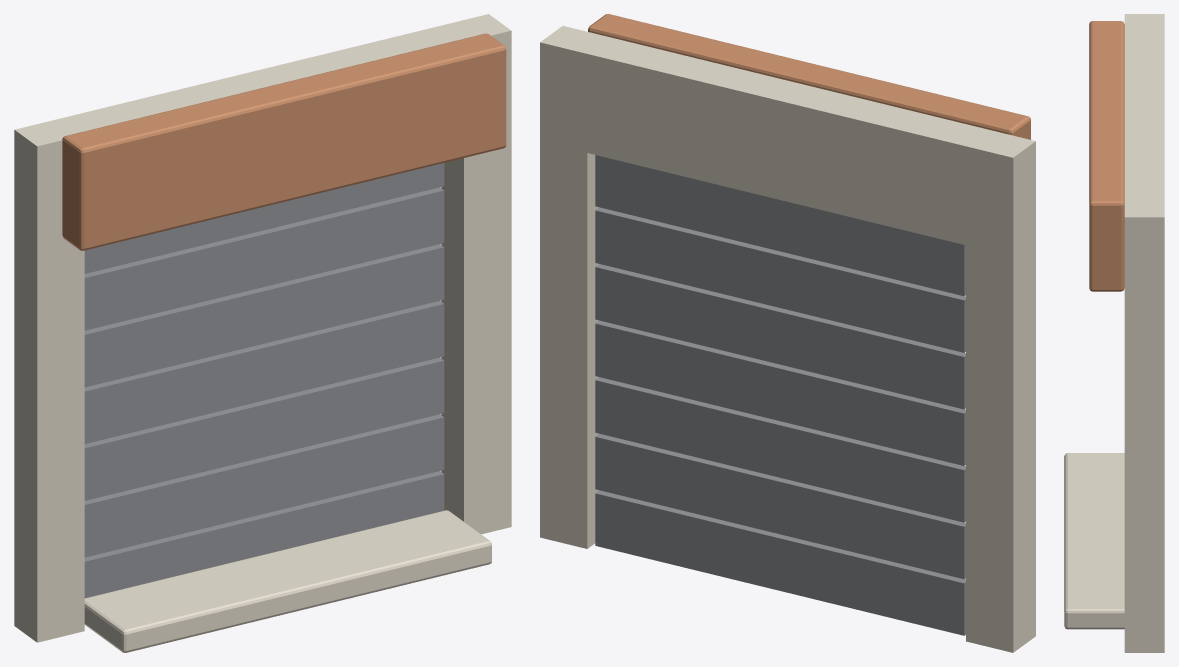
File: kit_shopfront.glb
3 views of the same model, side by side, from view 1: azimuth 30°, elevation 25°; view 2: azimuth 150°, elevation 25°; view 3: azimuth 270°, elevation 25° (orthographic). The views are drawn at different scales.
Parts seen in each view (by area): view 1: kit_shopfront; view 2: kit_shopfront; view 3: kit_shopfront.
Boxes of the visible parts, x1,y1,x2,y2 form: kit_shopfront: (14, 14, 511, 652); kit_shopfront: (540, 14, 1035, 652); kit_shopfront: (1064, 14, 1164, 652).
Bounding box in the file's own units: 3 × 3.03 × 0.625.
